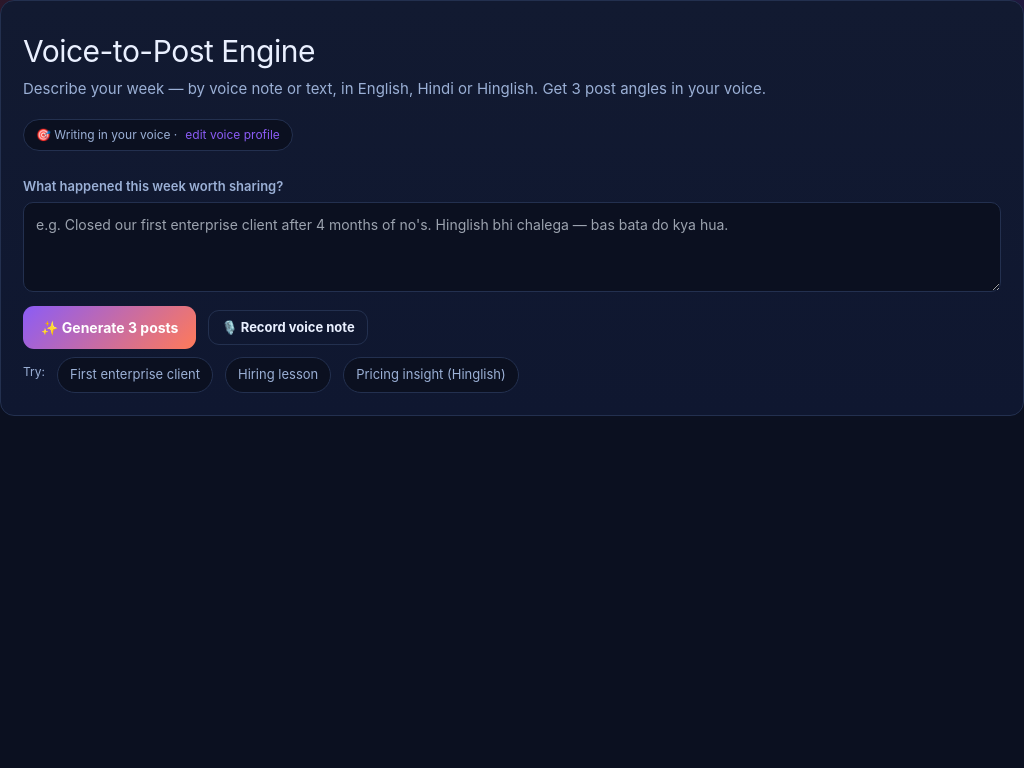
Test case: <GenerateClient> › Generate POSTs /api/post/generate with {inputText} and renders the 3 VariantCards
Type "We shipped a big feature" into the text box labelled "What happened this week worth sharing?" at (512, 247), box [23,202,1001,292]
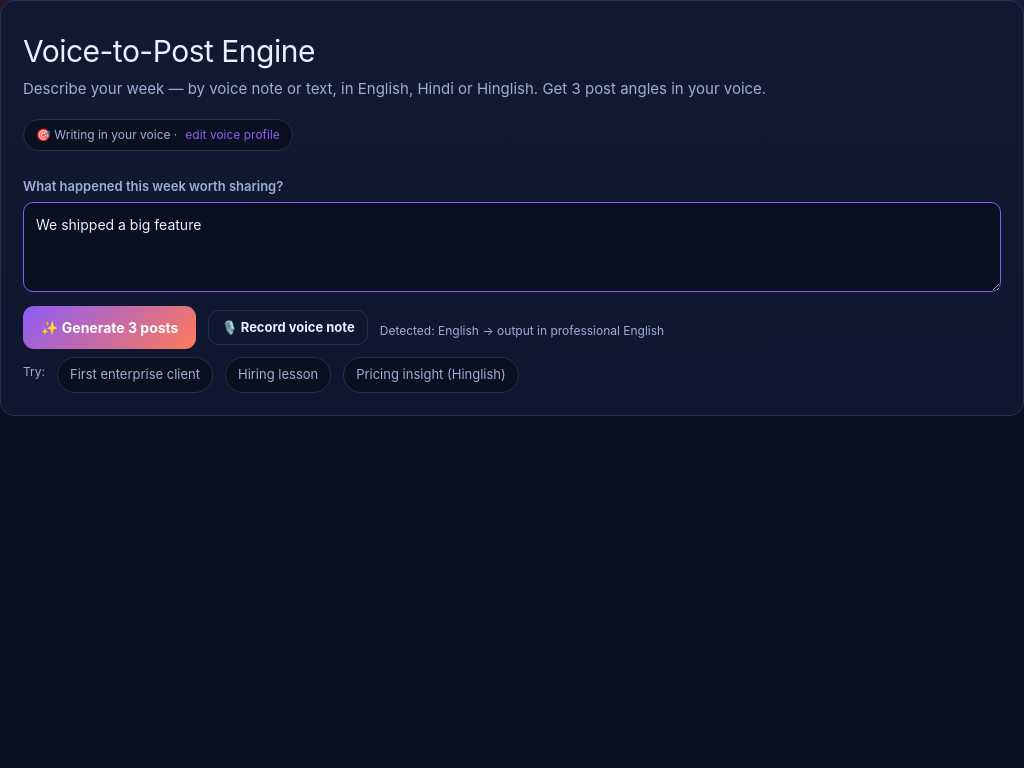
Click the button "✨ Generate 3 posts" at (110, 328), box [23,306,196,349]
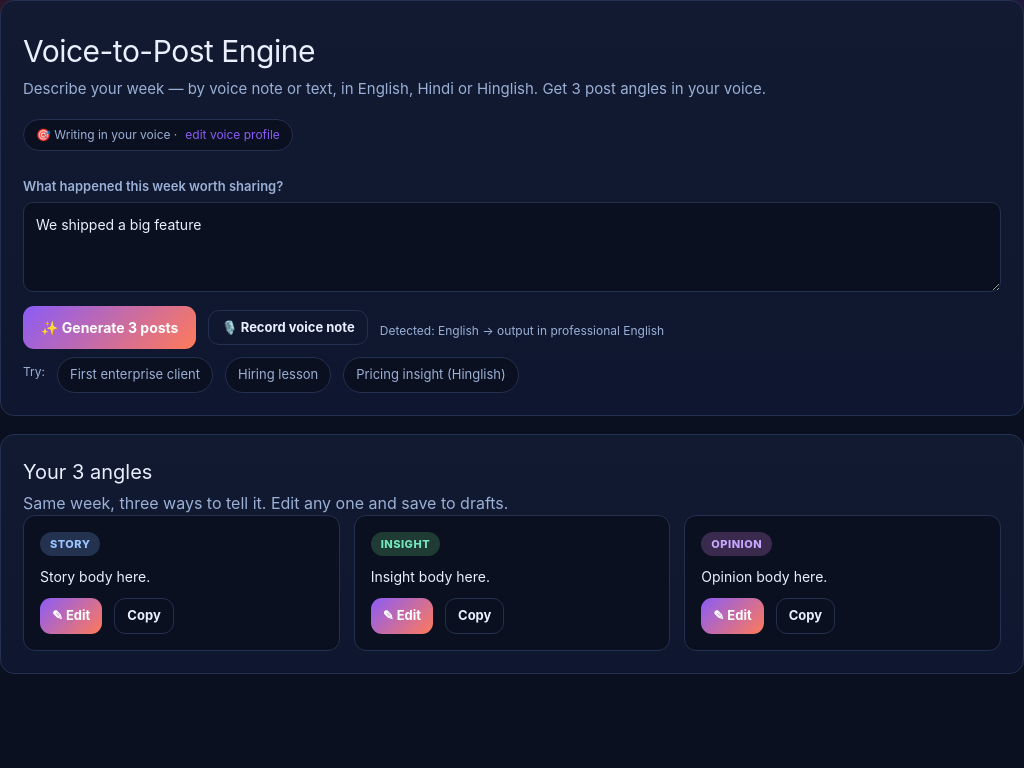
Expected: the text "Story body here." is shown, [40,568,150,585]
Expected: the text "Insight body here." is shown, [371,568,490,585]
Expected: the text "Opinion body here." is shown, [701,568,827,585]
